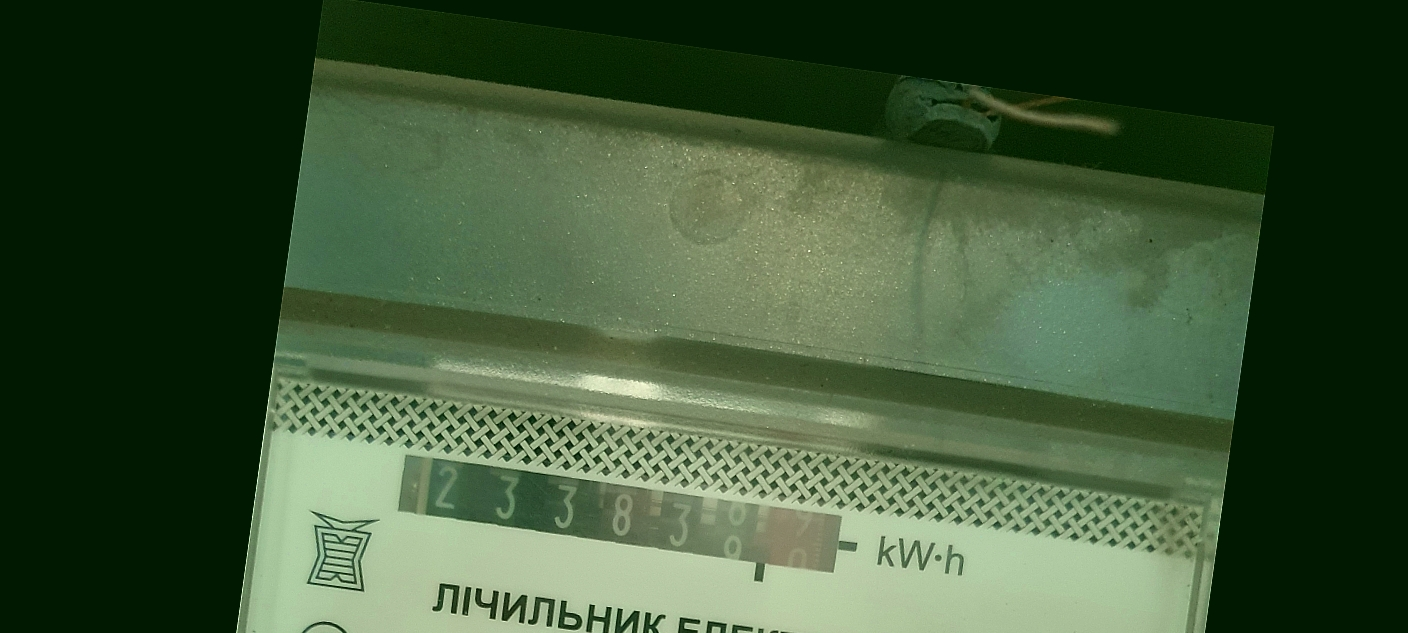0: (783, 542, 812, 570)
2: (429, 460, 463, 512)
3: (489, 470, 522, 523), (549, 480, 580, 533), (663, 498, 695, 549)
8: (606, 489, 637, 538), (721, 499, 752, 529)
9: (716, 529, 747, 562), (787, 507, 815, 539)
screen: (381, 441, 861, 596)
